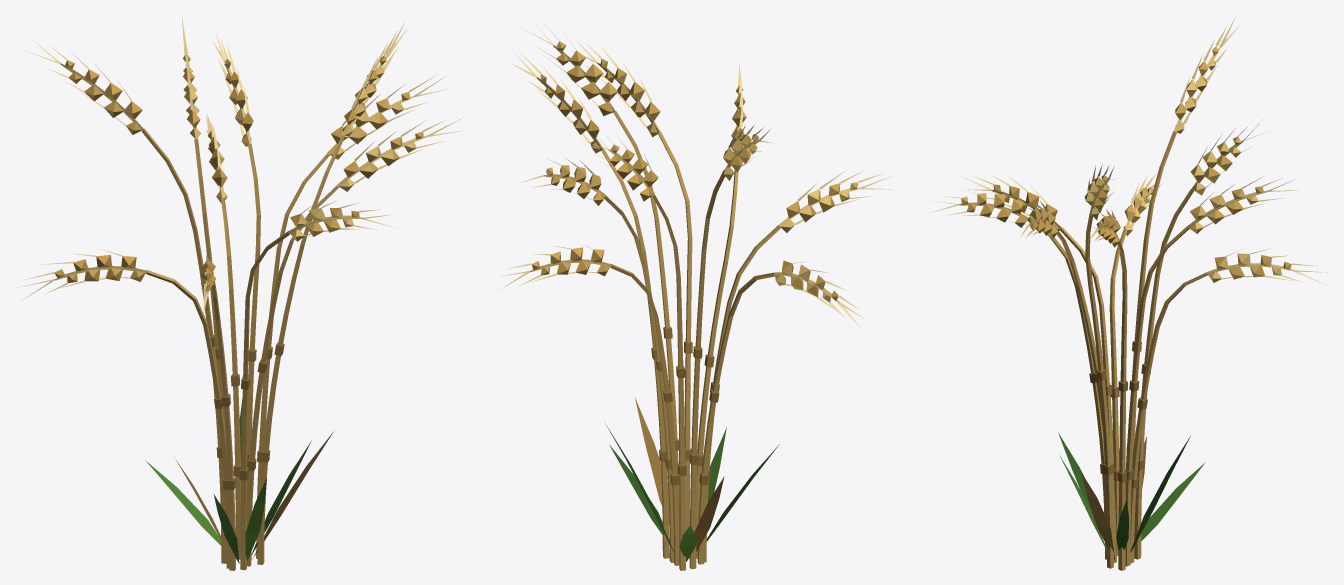
File: wheat_wild2_v2.fbx
The picture shows the model from 3 angles, left to right: view 1: azimuth 30°, elevation 25°; view 2: azimuth 150°, elevation 25°; view 3: azimuth 270°, elevation 25°; orthographic projection. The views are drawn at different scales.
Parts seen in each view (by area): view 1: wheat_wild2_v2; view 2: wheat_wild2_v2; view 3: wheat_wild2_v2.
Boxes of the visible parts, bbox=[...] form: wheat_wild2_v2: bbox=[16, 15, 464, 570]; wheat_wild2_v2: bbox=[499, 20, 894, 570]; wheat_wild2_v2: bbox=[929, 15, 1327, 570].
Size of the model in its own units: 90.02 by 111 by 84.81.
